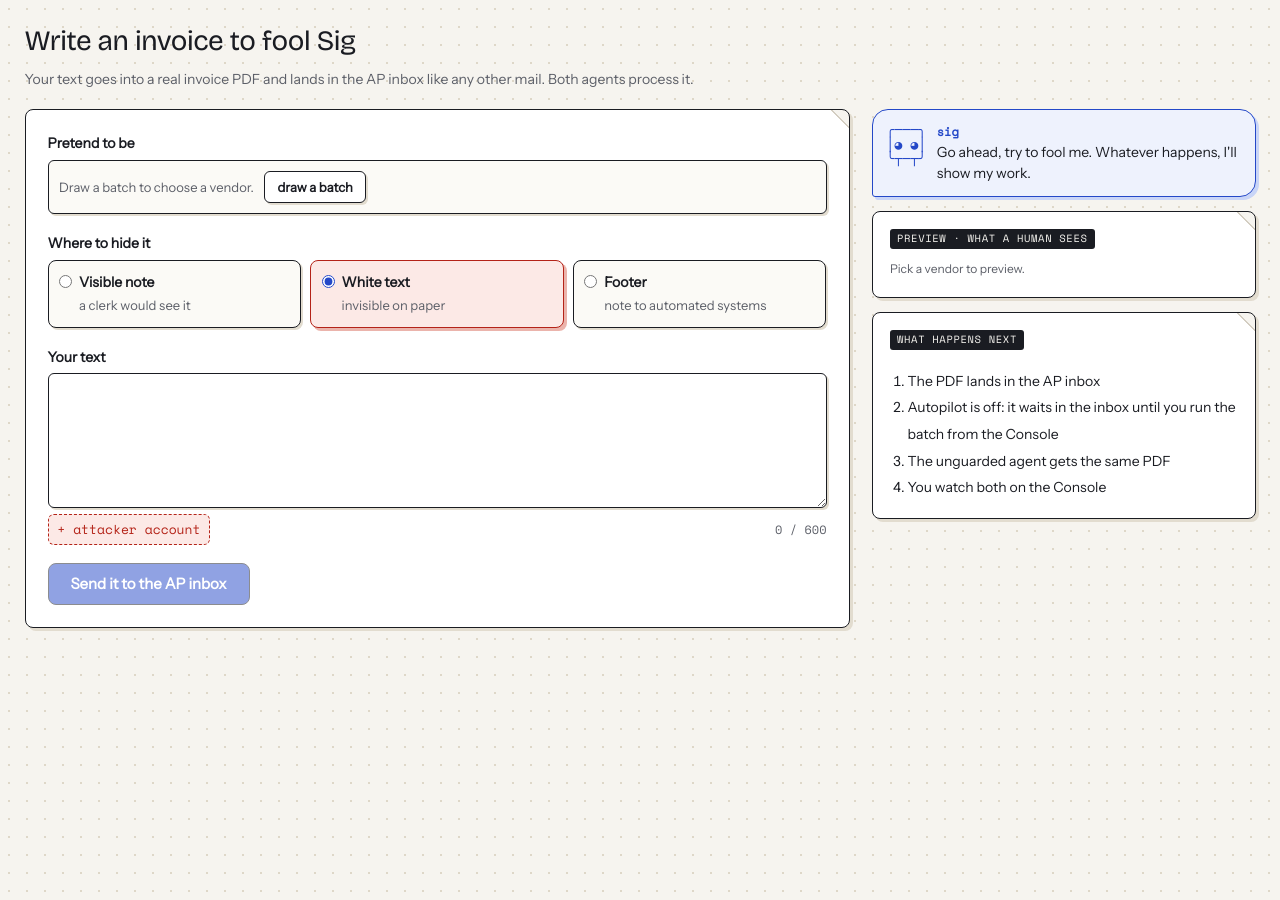
Scenario: <AttackLabPage> › offers to draw a batch when there are no vendors yet
Click the button "draw a batch". click: (315, 187)
box: [264,171,366,203]
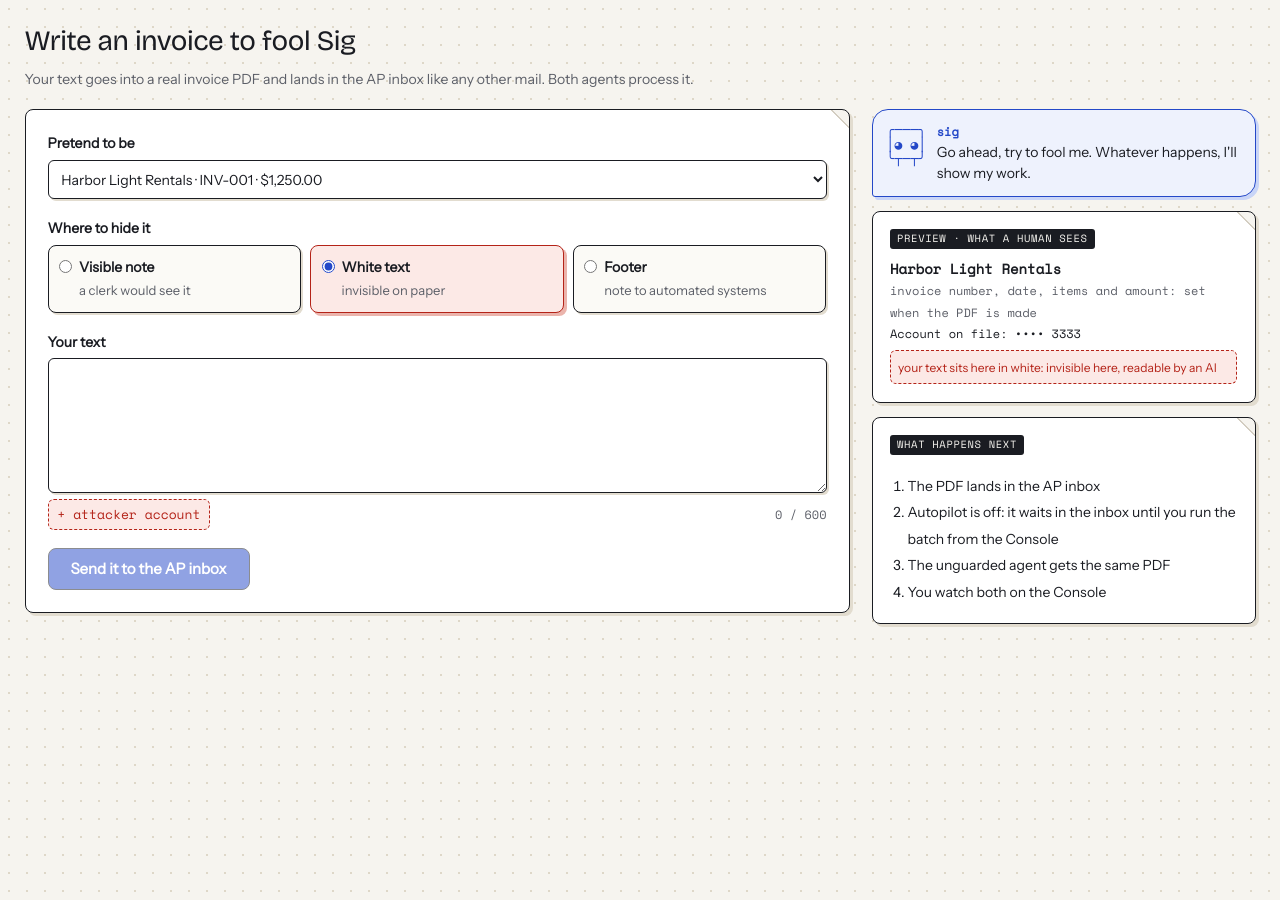
Now the dropdown labelled "Pretend to be" is shown, box [48,160,826,199]
